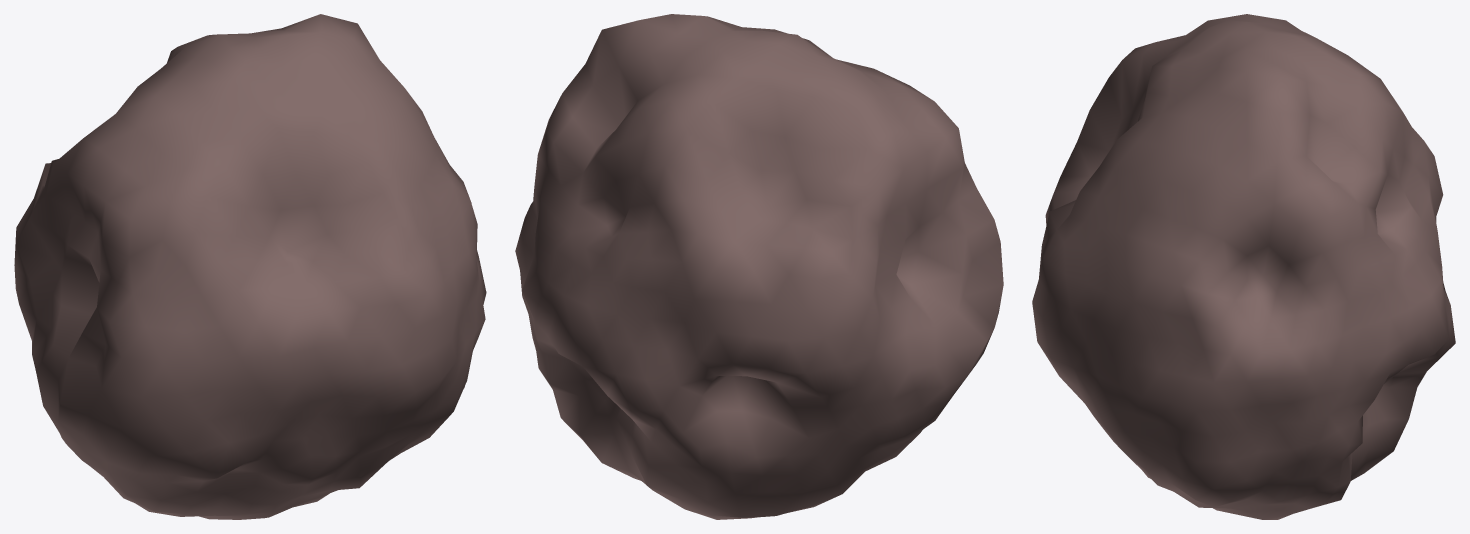
The model's file is asteroid_16.glb.
The picture shows the model from 3 angles, left to right: view 1: azimuth 30°, elevation 25°; view 2: azimuth 150°, elevation 25°; view 3: azimuth 270°, elevation 25°; orthographic projection.
Visible parts, largest first — view 1: Asteroid_16; view 2: Asteroid_16; view 3: Asteroid_16.
Part boxes in pixels (x1,y1,x2,y2): Asteroid_16: (14, 14, 486, 519); Asteroid_16: (515, 14, 1003, 519); Asteroid_16: (1032, 14, 1455, 519).
Bounding box in the file's own units: 2.04 × 2.12 × 1.76.
